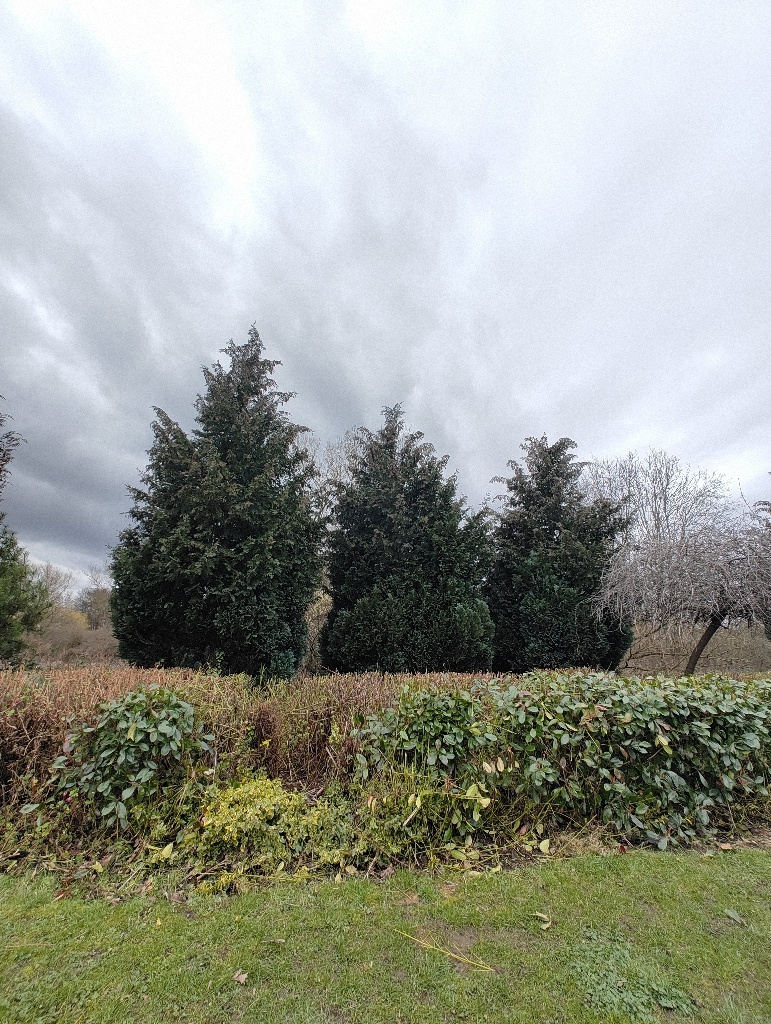Tree: (105, 317, 322, 679), (319, 399, 499, 669), (478, 429, 639, 671)
